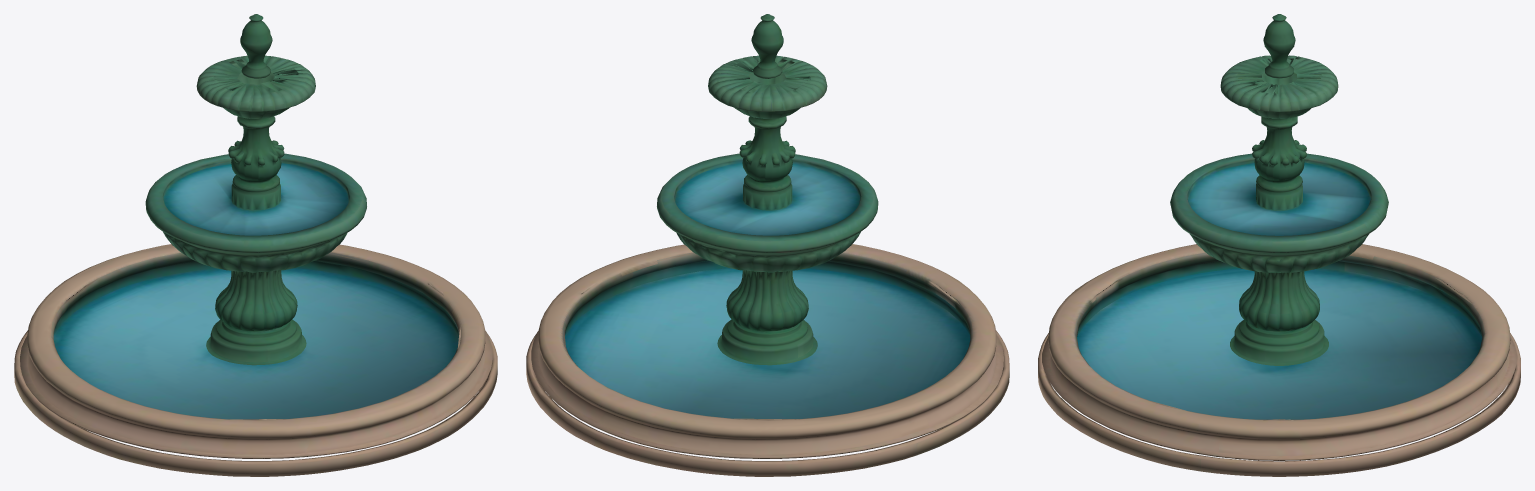
The model's file is park_fountain_c2664cc0_v3.glb.
3 views of the same model, side by side, from view 1: azimuth 30°, elevation 25°; view 2: azimuth 150°, elevation 25°; view 3: azimuth 270°, elevation 25° (orthographic).
Parts seen in each view (by area): view 1: material; view 2: material; view 3: material.
Part boxes in pixels (bbox=[...]): material: bbox=[14, 14, 497, 476]; material: bbox=[526, 14, 1009, 476]; material: bbox=[1038, 14, 1520, 476].
Bounding box in the file's own units: 1.9 × 1.58 × 1.9.
1 material, 1 textured.
